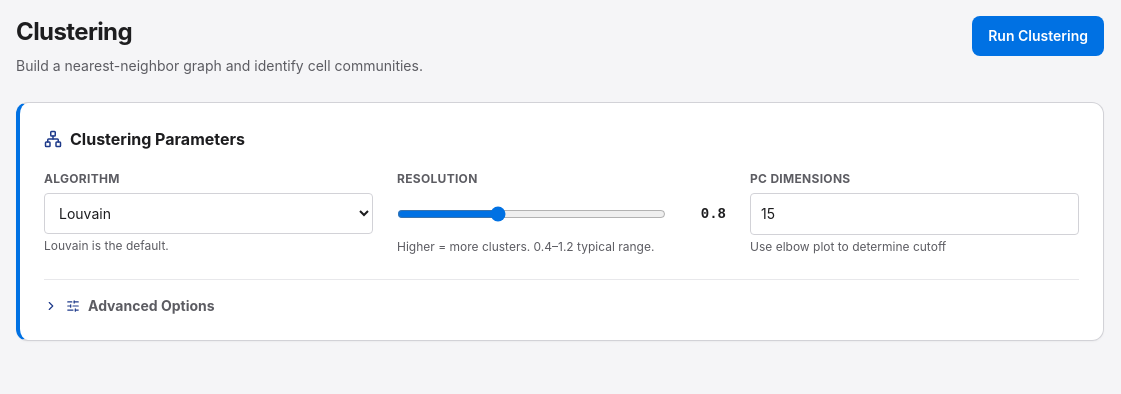
Test case: blocks incomplete or out-of-range numeric parameters instead of submitting NaN
Clear the number field labelled "PC Dimensions" at x=914, y=214, box top-left (750, 193), bottom-right (1079, 235)
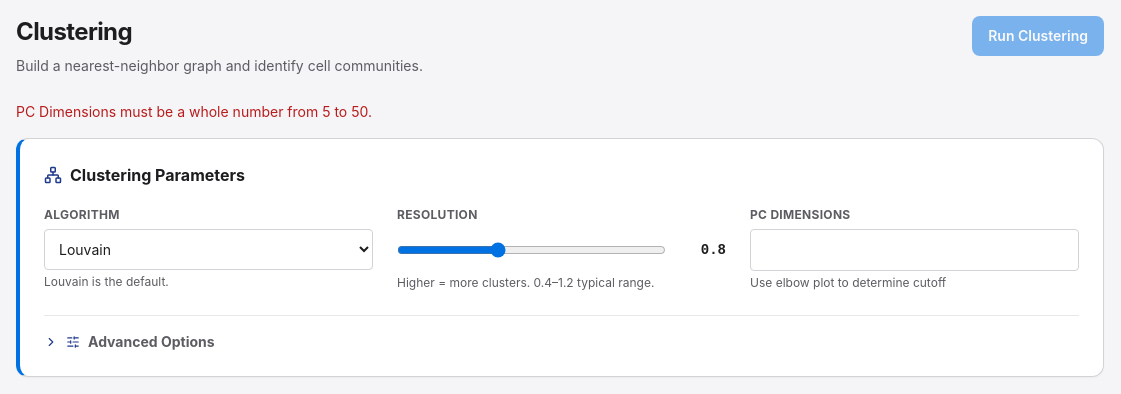
Check: the message shows "PC Dimensions", box top-left (16, 103), bottom-right (372, 120)
Check: the button "Run Clustering" is disabled, box top-left (972, 16), bottom-right (1104, 56)
Type "12" into the number field labelled "PC Dimensions" at x=914, y=250, box top-left (750, 229), bottom-right (1079, 271)
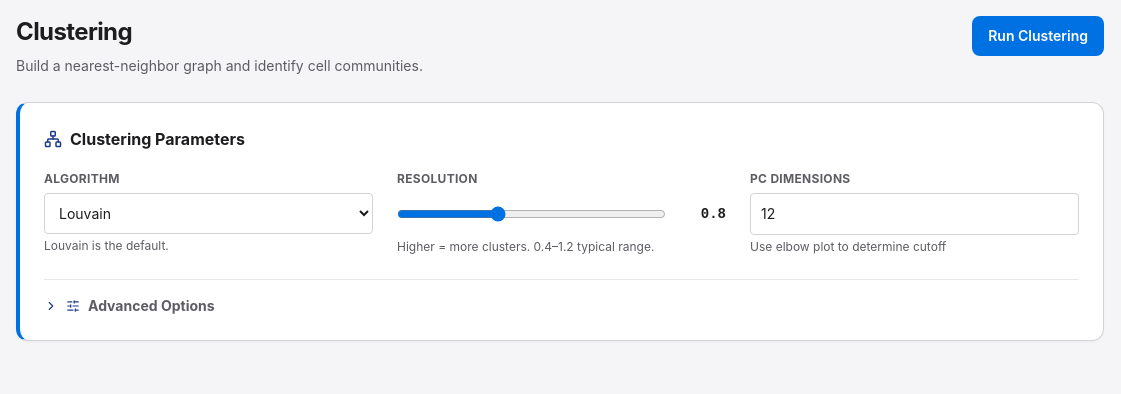
Replace the text in the number field named "Number of Starts" with "0" at x=562, y=298, box top-left (44, 279), bottom-right (1079, 316)
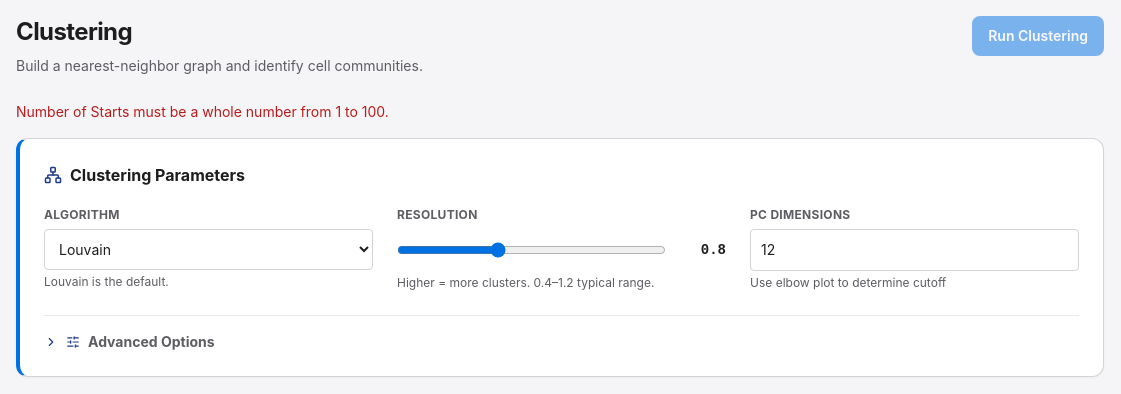
Check: the button "Run Clustering" is disabled, box top-left (972, 16), bottom-right (1104, 56)
